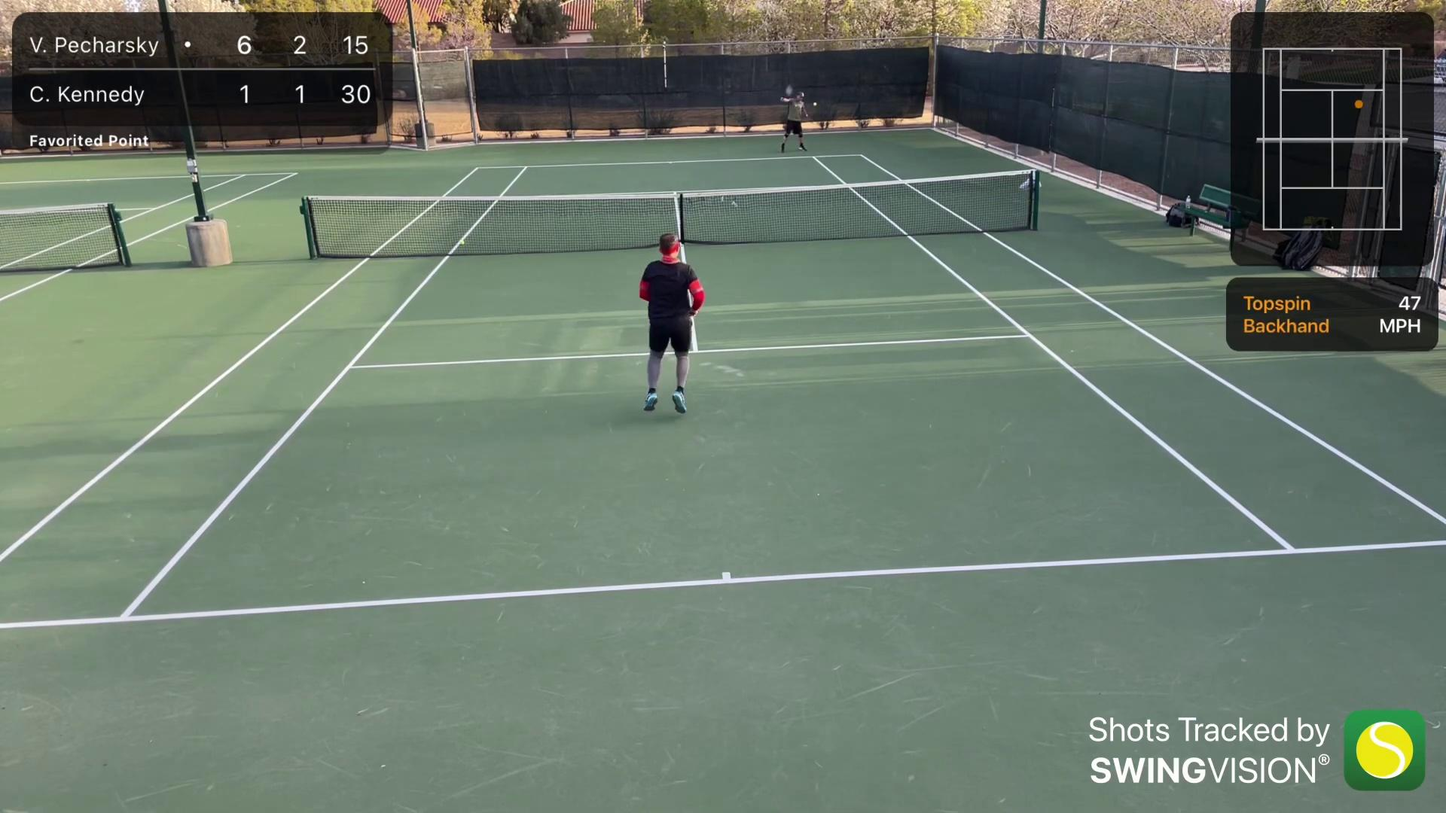ball: (813, 102, 817, 106)
